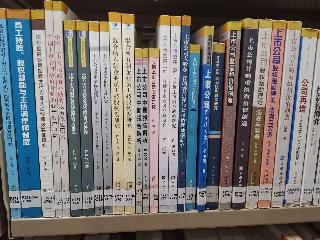book-spine: (7, 8, 41, 218), (269, 20, 302, 209), (282, 30, 317, 207), (229, 19, 260, 212), (257, 19, 286, 209), (29, 8, 55, 218), (244, 19, 272, 209), (217, 21, 242, 210), (0, 7, 22, 218), (62, 18, 84, 216), (51, 1, 71, 217), (297, 30, 320, 205), (75, 19, 95, 216), (45, 0, 63, 217), (108, 11, 126, 215), (205, 42, 226, 211), (164, 16, 182, 213), (197, 26, 215, 210), (176, 15, 191, 213), (89, 20, 104, 216), (122, 13, 136, 213), (157, 16, 171, 212), (99, 22, 113, 215), (184, 44, 200, 211), (148, 48, 160, 213), (132, 48, 143, 214), (141, 48, 149, 213)
